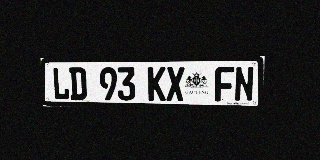3: (117, 67, 135, 101)
9: (99, 67, 117, 100)
D: (69, 67, 87, 100)
F: (215, 67, 234, 102)
K: (148, 67, 166, 101)
L: (52, 67, 70, 100)
N: (234, 66, 254, 102)
X: (166, 67, 184, 101)
